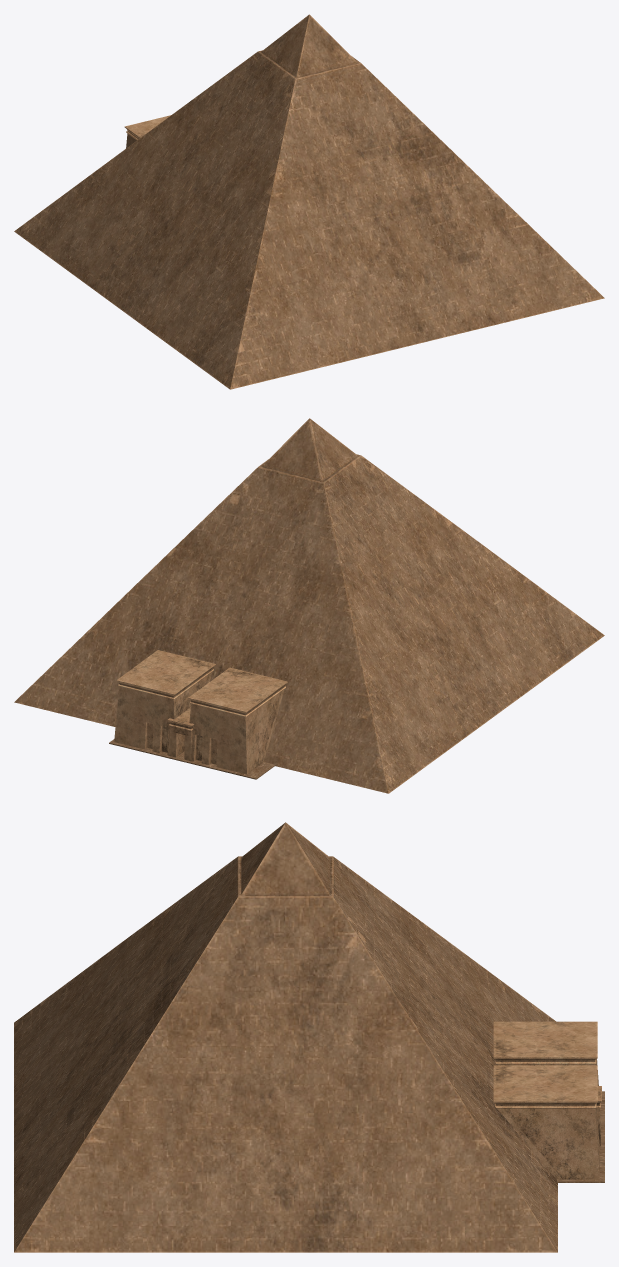
3 renders of one model, top to bottom at view 1: azimuth 30°, elevation 25°; view 2: azimuth 150°, elevation 25°; view 3: azimuth 270°, elevation 25°, orthographic. The views are drawn at different scales.
Visible parts, largest first — view 1: ta_dimo__2_pyramid_0, men_dimo__1_pyramid_0; view 2: ta_dimo__2_pyramid_0, men_dimo__1_pyramid_0; view 3: ta_dimo__2_pyramid_0, men_dimo__1_pyramid_0.
Part boxes in pixels (x1=…): ta_dimo__2_pyramid_0: x1=14, y1=14, x2=604, y2=389; men_dimo__1_pyramid_0: x1=124, y1=115, x2=170, y2=148; ta_dimo__2_pyramid_0: x1=14, y1=418, x2=604, y2=793; men_dimo__1_pyramid_0: x1=114, y1=650, x2=287, y2=774; ta_dimo__2_pyramid_0: x1=14, y1=822, x2=604, y2=1252; men_dimo__1_pyramid_0: x1=493, y1=1021, x2=601, y2=1179.
Size of the model in its own units: 636 by 407 by 691.
